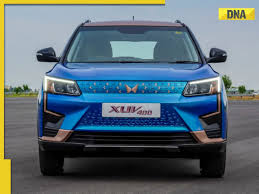XUV 400: (34, 14, 229, 180)
